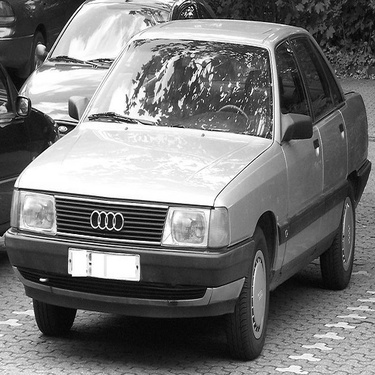car: (2, 13, 371, 364), (13, 1, 219, 144), (3, 57, 67, 243), (1, 4, 86, 89)
